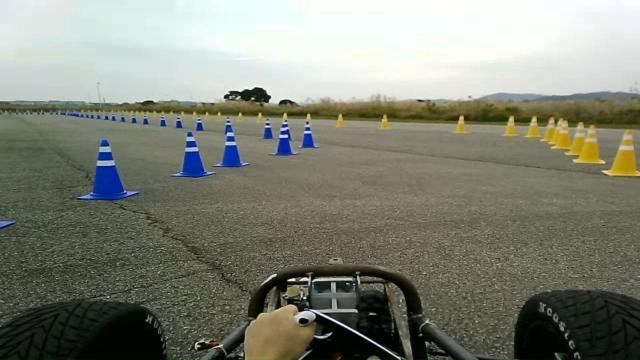blue cone: (76, 139, 139, 200), (170, 131, 216, 178), (212, 117, 249, 167), (265, 115, 295, 158), (298, 121, 318, 148), (0, 220, 16, 229)
yellow cone: (601, 128, 639, 177), (572, 124, 606, 164), (565, 121, 586, 156), (551, 127, 571, 150), (540, 116, 556, 142), (524, 115, 542, 138), (501, 115, 519, 137), (453, 114, 468, 134)
